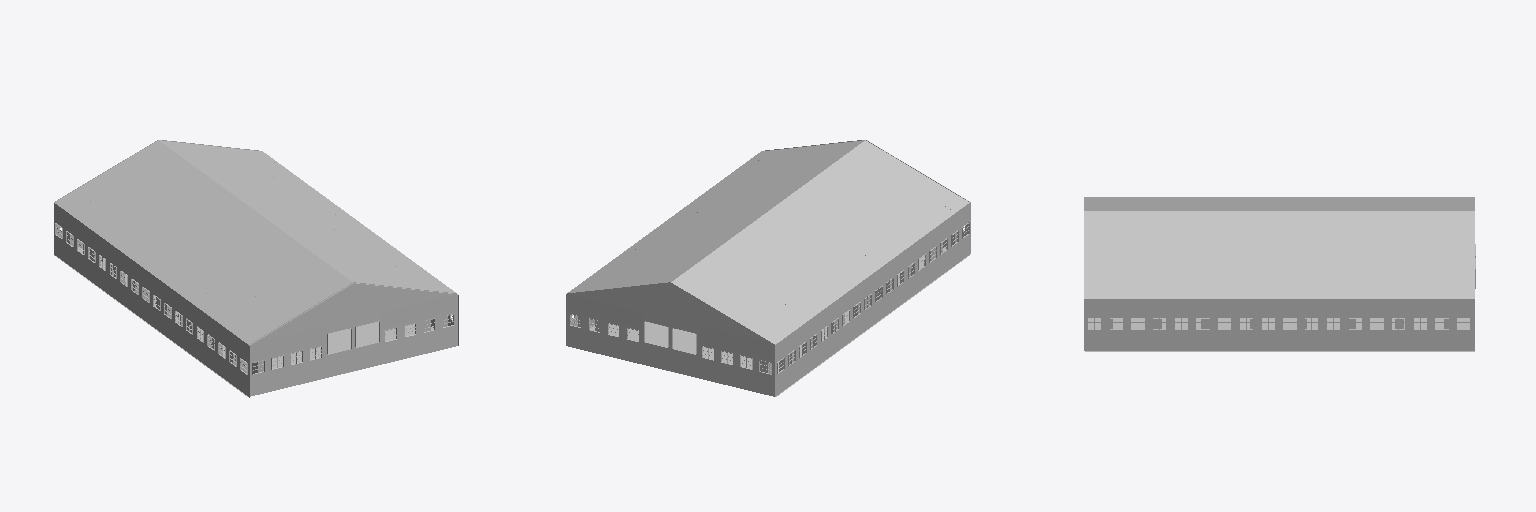
The model's file is environment.obj.
3 views of the same model, side by side, from view 1: azimuth 30°, elevation 25°; view 2: azimuth 150°, elevation 25°; view 3: azimuth 270°, elevation 25° (orthographic).
Parts seen in each view (by area): view 1: Plane.003, Plane.005, Plane.006, Cube, Plane.001, Plane; view 2: Plane.003, Plane.005, Plane.006, Cube, Plane.001, Plane; view 3: Plane.003, Cube, Plane.
Part boxes in pixels (x1,y1,x2,y2): Plane.003: (54, 140, 458, 397); Plane.005: (57, 225, 457, 396); Plane.006: (55, 140, 456, 343); Cube: (67, 156, 447, 373); Plane.001: (325, 312, 381, 377); Plane: (54, 248, 433, 396); Plane.003: (568, 140, 970, 396); Plane.005: (566, 224, 967, 396); Plane.006: (567, 140, 968, 343); Cube: (578, 154, 956, 373); Plane.001: (642, 312, 698, 377); Plane: (590, 248, 969, 396); Plane.003: (1084, 197, 1474, 350); Cube: (1104, 198, 1452, 328); Plane: (1085, 319, 1474, 351).
Size of the model in its own units: 36 by 14.72 by 58.02.